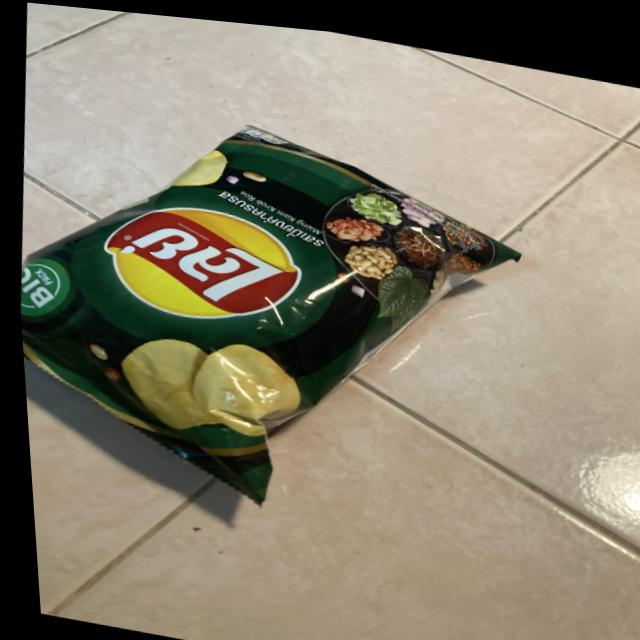Laygreen: (4, 68, 542, 541)
